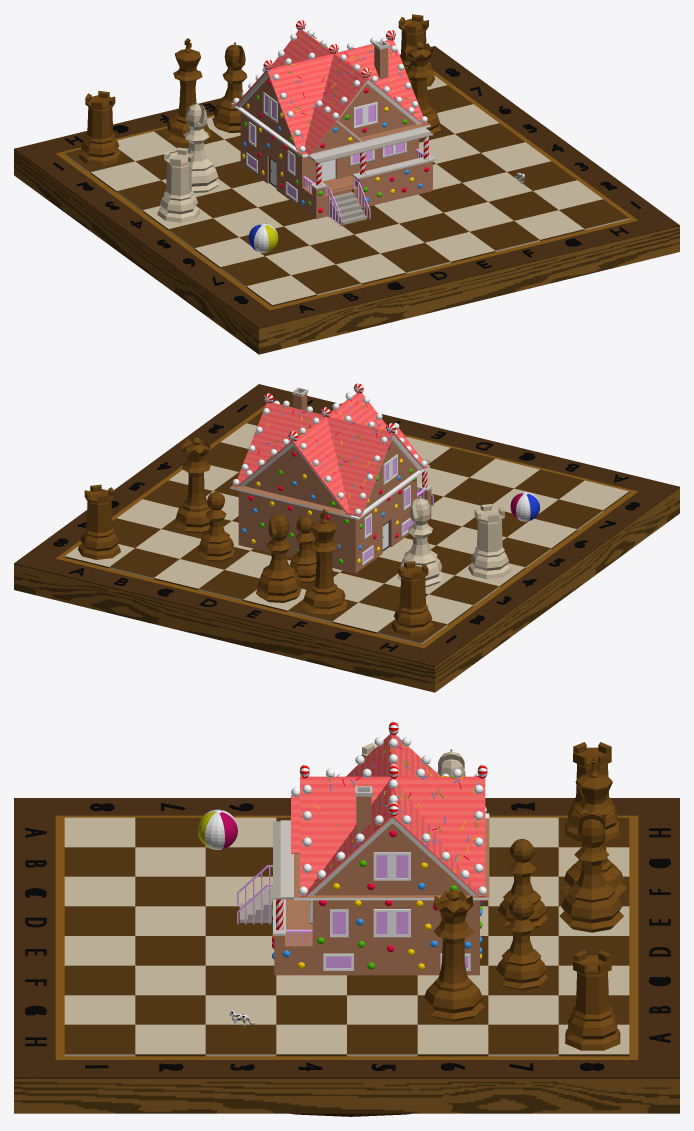
The picture shows the model from 3 angles, top to bottom: view 1: azimuth 30°, elevation 25°; view 2: azimuth 150°, elevation 25°; view 3: azimuth 270°, elevation 25°; orthographic projection. The views are drawn at different scales.
Visible parts, largest first — view 1: Cube.002, Cube.1203, OBJRANDOM_BEACHBALL; view 2: Cube.002, Cube.1203, OBJRANDOM_BEACHBALL; view 3: Cube.002, Cube.1203, OBJRANDOM_BEACHBALL.
Boxes of the visible parts, bbox=[...] form: Cube.002: bbox=[14, 14, 679, 354]; Cube.1203: bbox=[231, 20, 435, 226]; OBJRANDOM_BEACHBALL: bbox=[248, 223, 278, 252]; Cube.002: bbox=[14, 384, 679, 692]; Cube.1203: bbox=[230, 383, 433, 573]; OBJRANDOM_BEACHBALL: bbox=[510, 491, 539, 521]; Cube.002: bbox=[14, 742, 679, 1113]; Cube.1203: bbox=[237, 721, 489, 975]; OBJRANDOM_BEACHBALL: bbox=[198, 809, 237, 849].
Size of the model in its own units: 3981 by 1552 by 4012.
37 materials, 3 textured.
